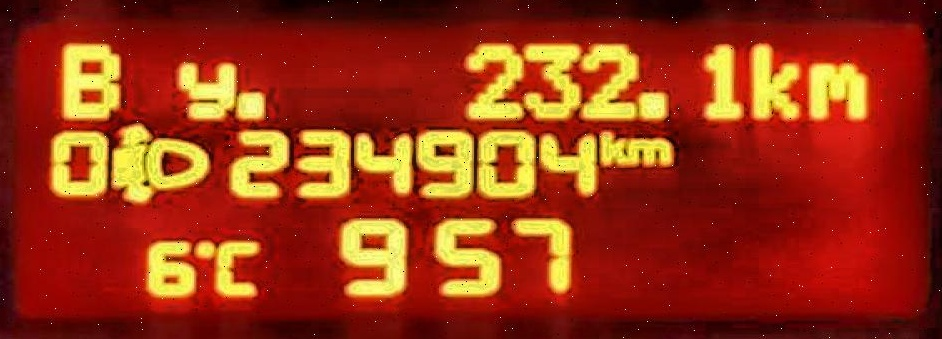-: (232, 83, 270, 124), (633, 84, 672, 123)
0: (477, 126, 533, 200), (48, 127, 107, 197)
1: (697, 34, 742, 125)
2: (462, 37, 520, 123), (227, 125, 287, 205), (584, 38, 635, 122)
3: (522, 36, 577, 120), (294, 123, 349, 199)
4: (350, 128, 410, 197), (535, 129, 595, 196)
5: (430, 215, 500, 298)
6: (144, 235, 194, 300)
7: (512, 212, 572, 298)
9: (337, 215, 408, 298), (419, 125, 474, 200)
X: (54, 36, 129, 121), (749, 39, 800, 119), (174, 57, 234, 120), (809, 57, 865, 120), (213, 233, 267, 298), (628, 133, 672, 168), (597, 125, 628, 169)
